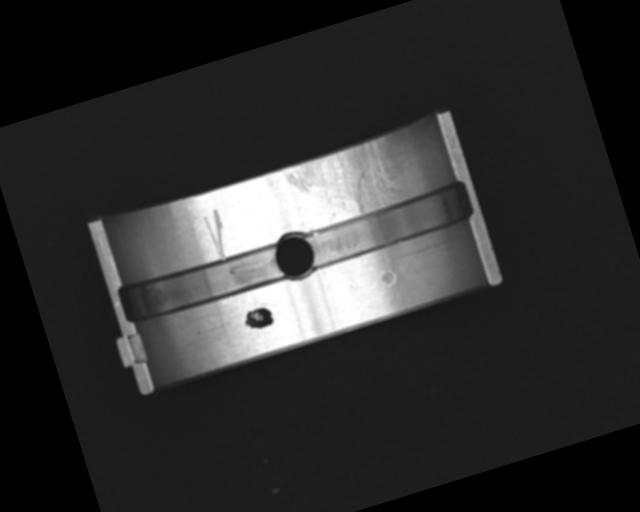blot: (240, 304, 275, 334)
bruise: (379, 266, 398, 288)
gap: (300, 178, 477, 270), (117, 241, 284, 327)
hole: (269, 227, 320, 285)
nick: (200, 208, 234, 264)
scratch: (281, 133, 409, 234)
